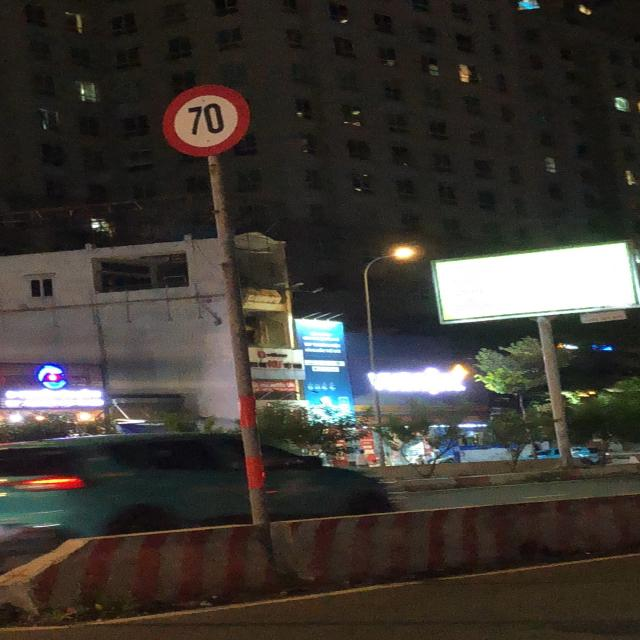Bien bao toc do toi da cho phep: (156, 79, 264, 159)
